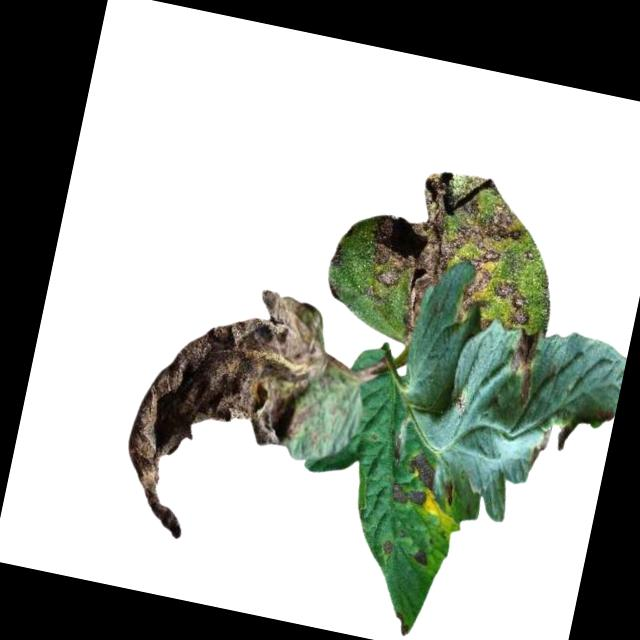Early_blight: (105, 268, 340, 566), (352, 156, 569, 368), (499, 329, 543, 408), (526, 420, 556, 476), (403, 449, 443, 490), (386, 481, 430, 512), (408, 548, 431, 567), (376, 538, 395, 560)
